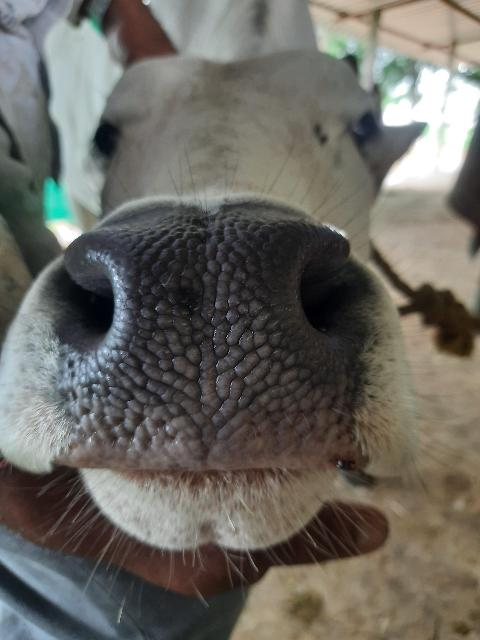Muzzle: (72, 225, 348, 453)
